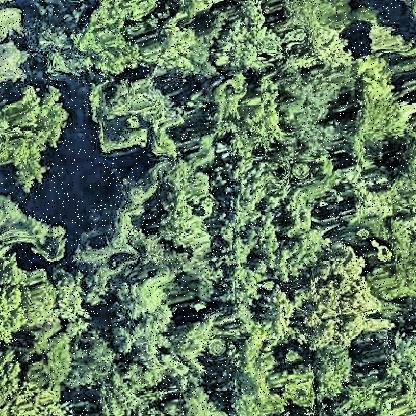tree-top: (283, 245, 391, 353), (218, 172, 328, 274), (90, 73, 186, 161), (1, 81, 74, 193), (205, 71, 295, 157), (348, 53, 416, 162), (235, 335, 321, 416), (1, 269, 95, 341), (106, 363, 220, 416), (286, 74, 355, 158), (106, 287, 176, 369), (352, 222, 416, 304), (75, 5, 150, 71), (211, 13, 285, 77), (1, 203, 78, 263), (159, 185, 221, 252), (293, 20, 355, 74), (21, 324, 71, 384), (70, 332, 120, 392), (1, 367, 59, 416), (305, 347, 359, 399)
